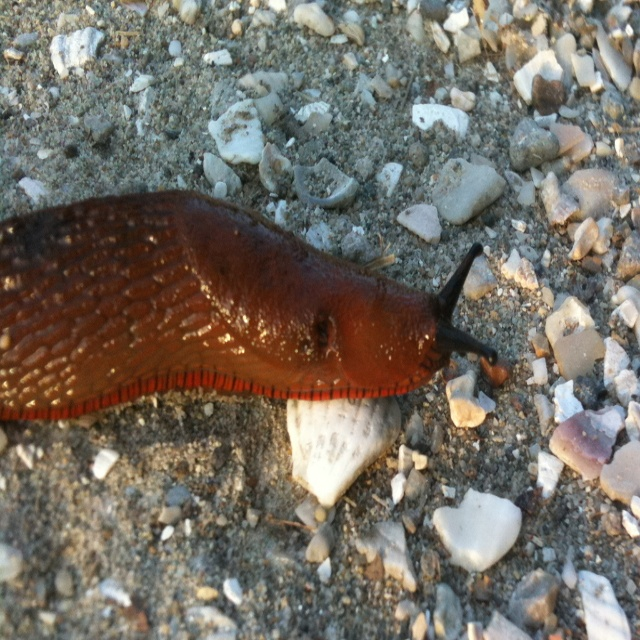Snail: (0, 187, 496, 427)
